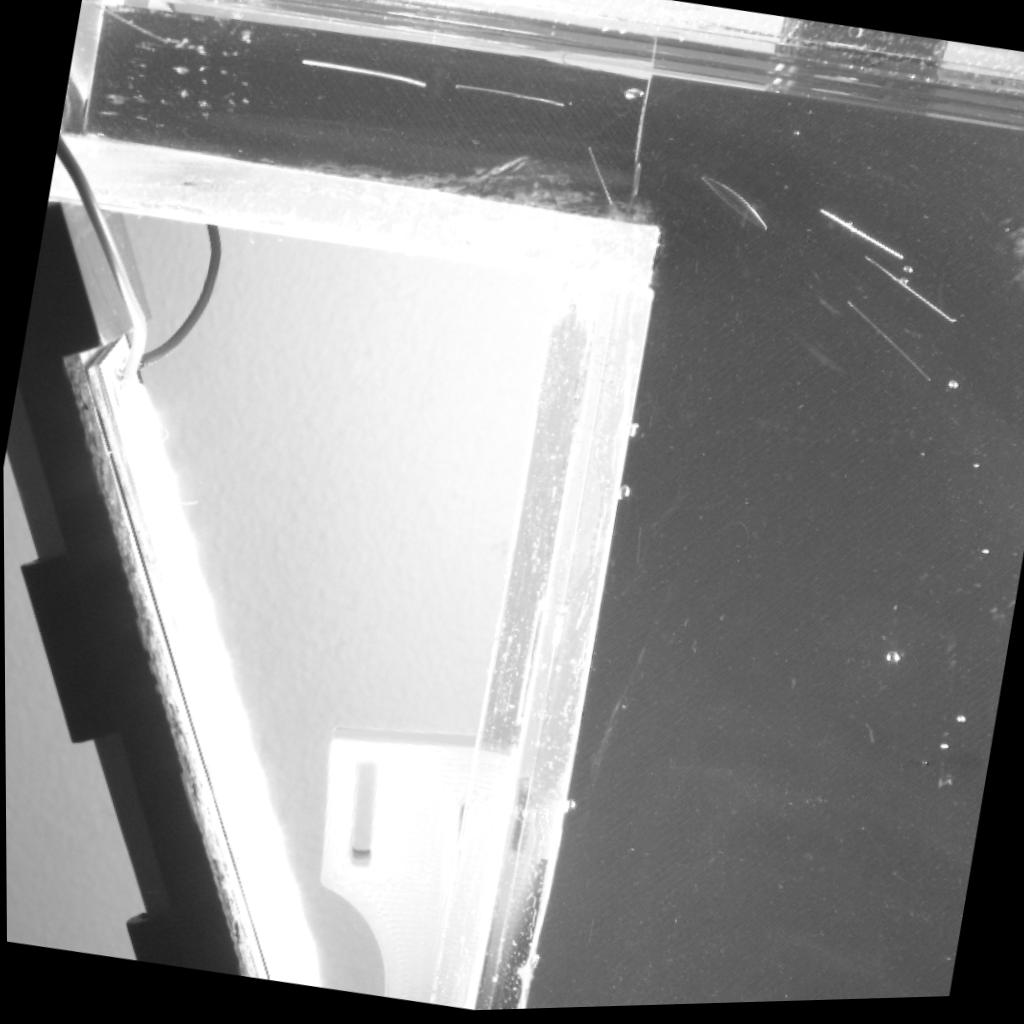Fiber: (841, 303, 932, 388), (863, 258, 952, 333), (818, 212, 903, 267), (450, 78, 567, 112), (97, 4, 179, 50), (299, 58, 421, 87), (589, 149, 624, 224)
